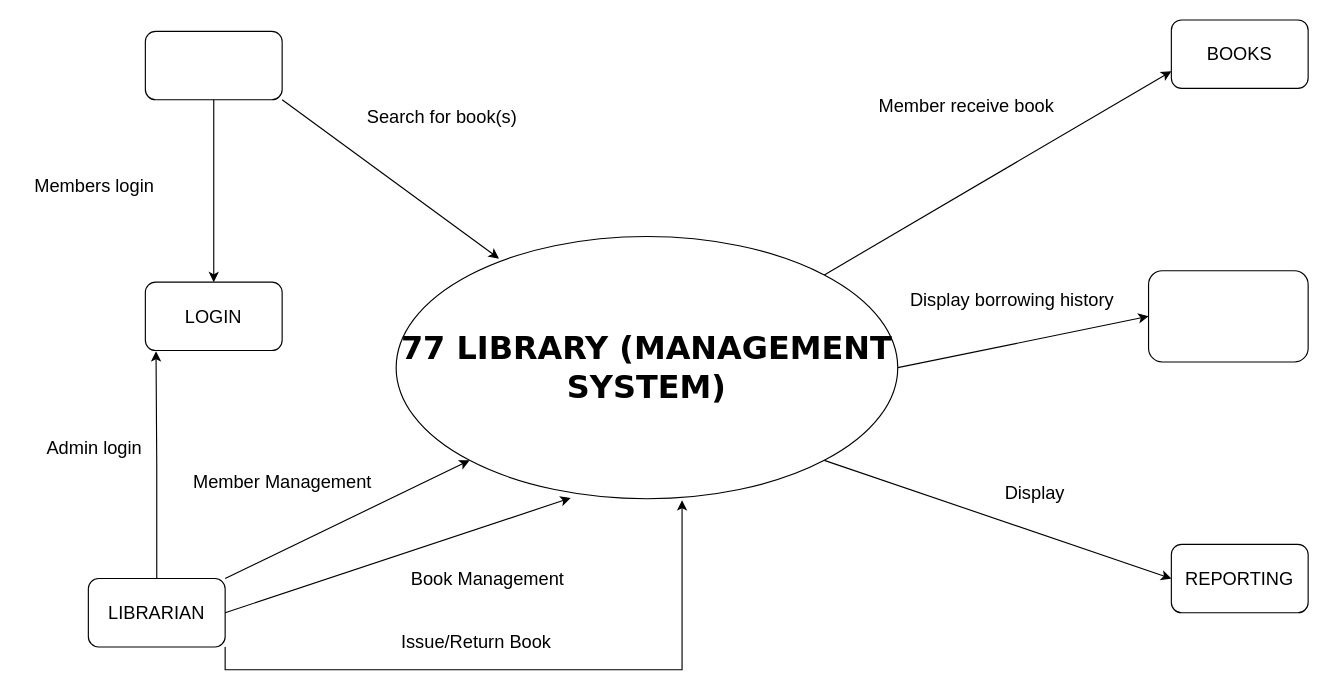
This 1328x699 diagram has some shape labels left out. The box of each missing label's shape, as (x1, y1, x2, y2) in pixels:
FINE SYSTEM (DUE DATE MANAGEMENT): (1147, 270, 1308, 362)
MEMBERS: (144, 30, 282, 100)
